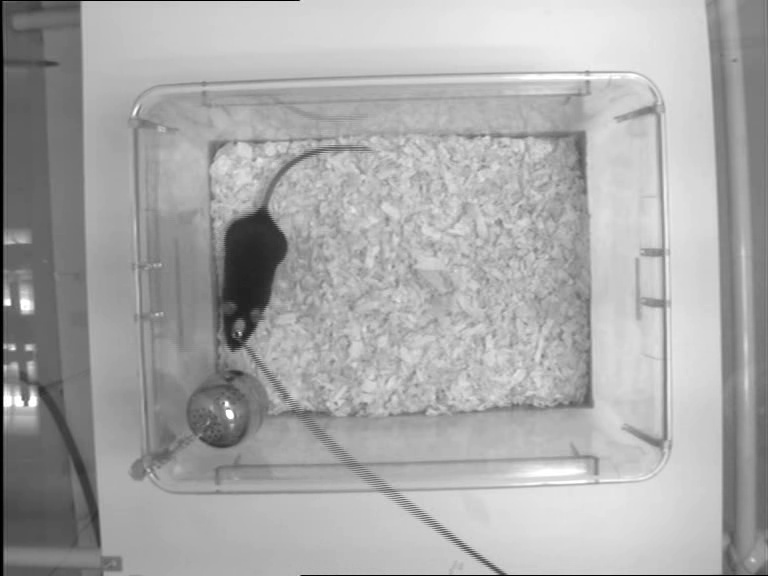mice: (220, 142, 372, 356)
